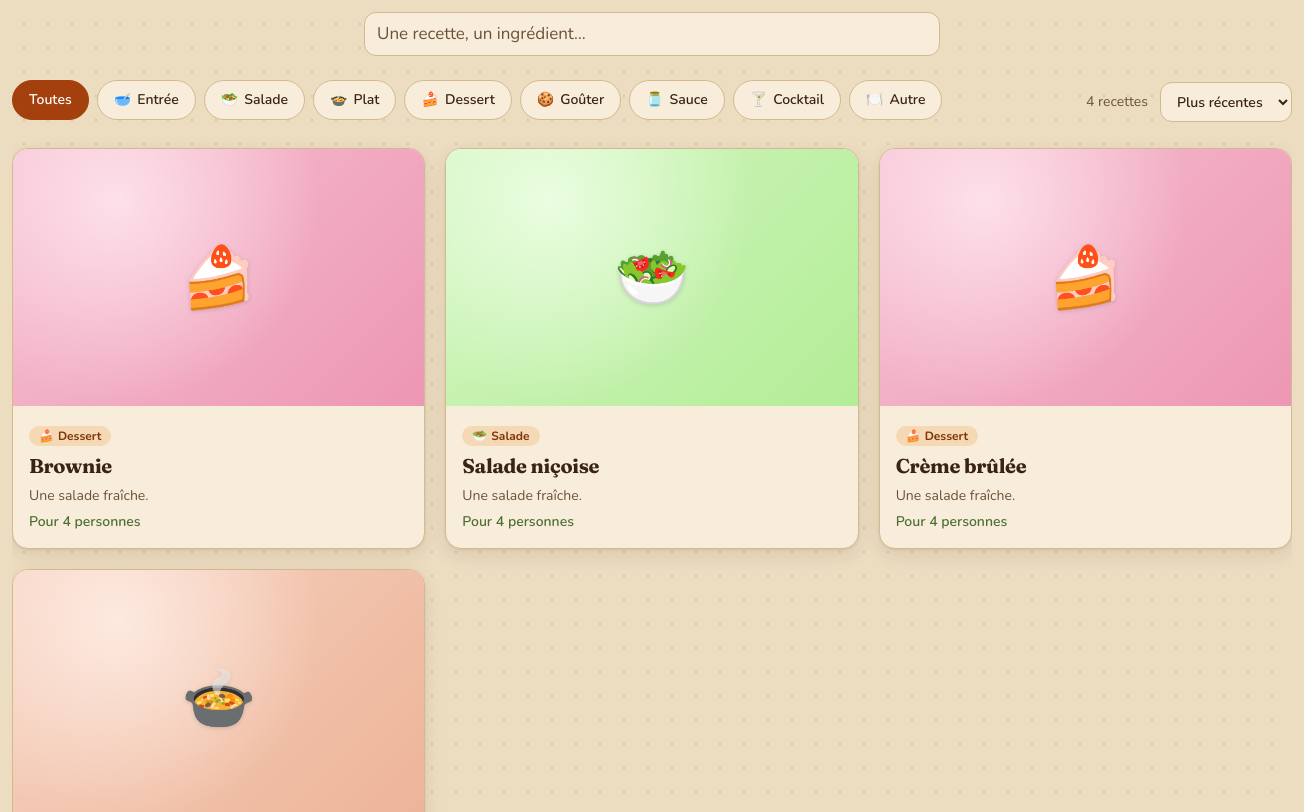
Test case: RecipeGrid : affichage, recherche, catégories, tri › la recherche filtre en direct, sans accents ni majuscules
The image size is (1304, 812).
Type "CREME" into the search field named "Chercher" at (652, 34), box [364,12,940,56]
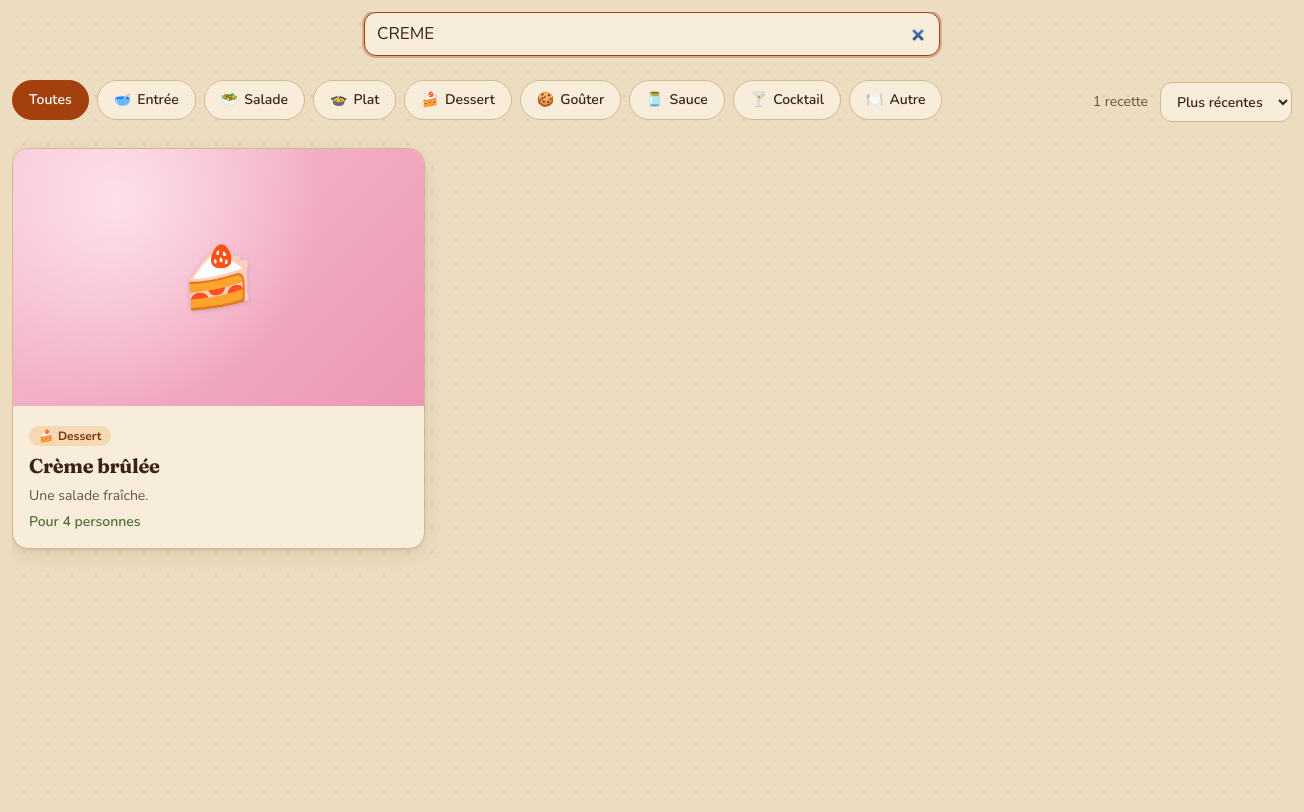
Expected: the message reads "1 recette", [1093,92,1148,112]
